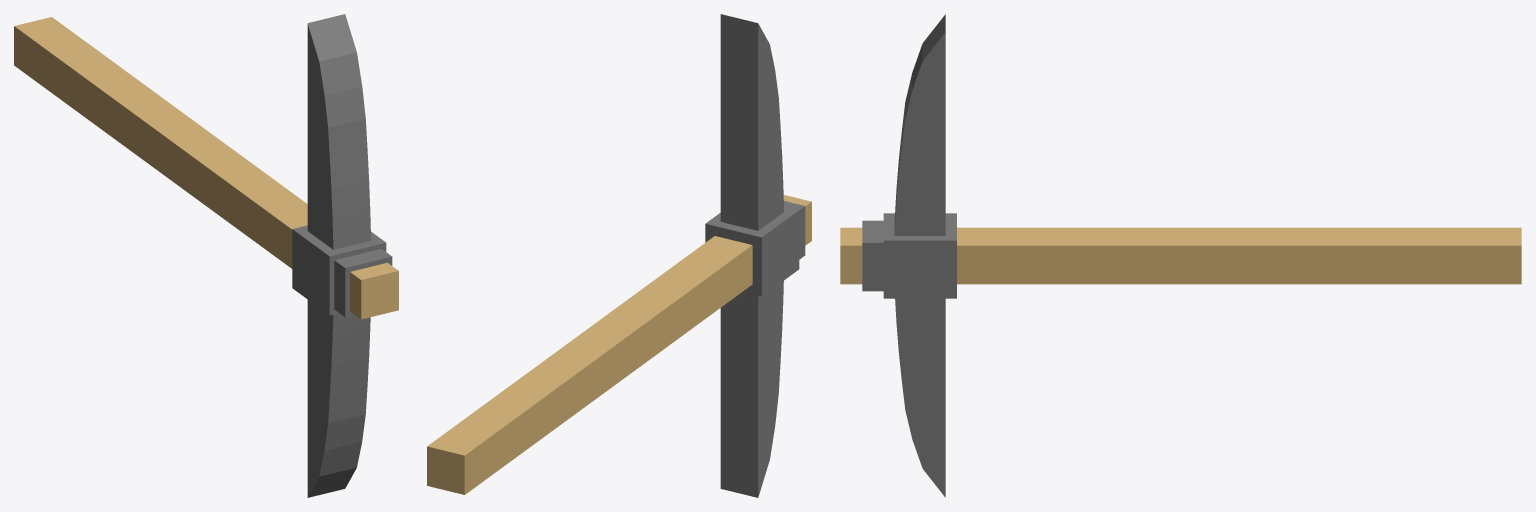
File: 54_Pickax.fbx
The picture shows the model from 3 angles, left to right: view 1: azimuth 30°, elevation 25°; view 2: azimuth 150°, elevation 25°; view 3: azimuth 270°, elevation 25°; orthographic projection.
Visible parts, largest first — view 1: Pickax; view 2: Pickax; view 3: Pickax.
Part boxes in pixels (x1=…): Pickax: x1=14, y1=14, x2=398, y2=497; Pickax: x1=427, y1=14, x2=811, y2=497; Pickax: x1=840, y1=14, x2=1521, y2=497.
Bounding box in the file's own units: 12 × 96.29 × 128.
